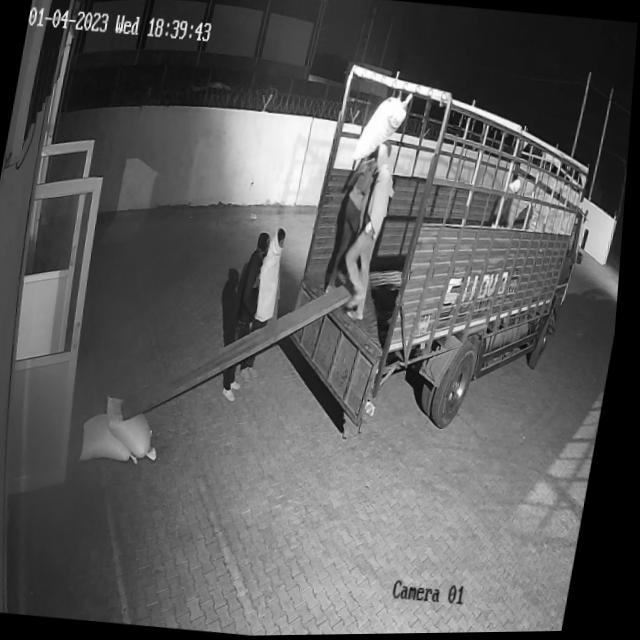sack: (354, 94, 412, 167), (84, 409, 152, 467), (104, 394, 164, 458)
